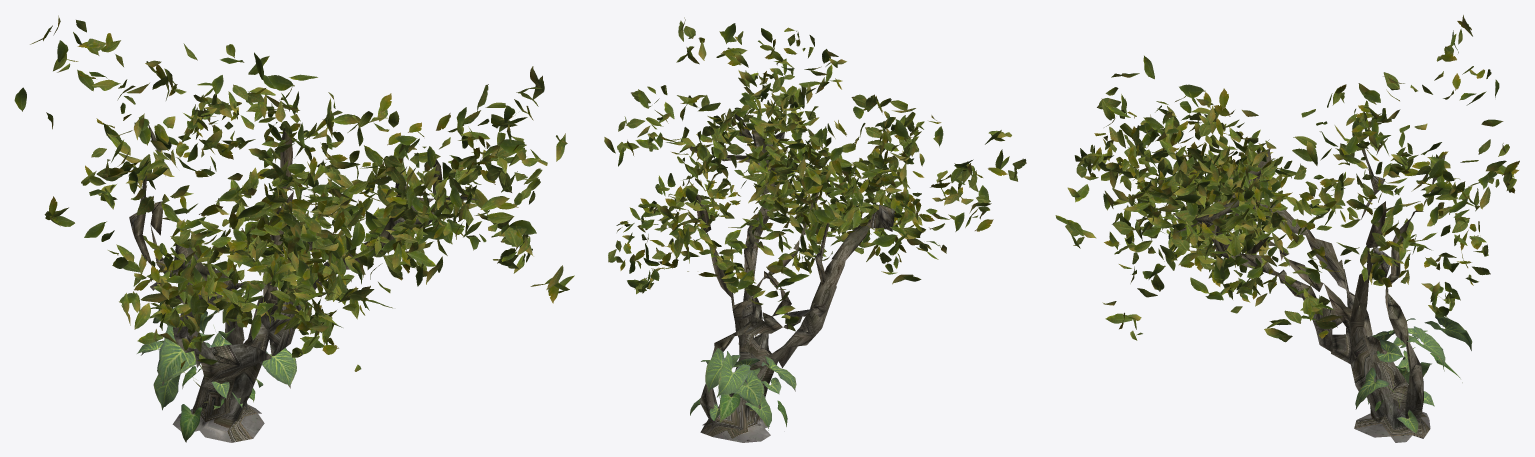
File: greenery.glb
The picture shows the model from 3 angles, left to right: view 1: azimuth 30°, elevation 25°; view 2: azimuth 150°, elevation 25°; view 3: azimuth 270°, elevation 25°; orthographic projection. The views are drawn at different scales.
Parts seen in each view (by area): view 1: tree_leaves, tree_trunk, shrub; view 2: tree_leaves, tree_trunk, shrub; view 3: tree_leaves, tree_trunk, shrub.
Boxes of the visible parts, x1,y1,x2,y2 form: tree_leaves: [14, 15, 574, 371]; tree_trunk: [129, 125, 478, 442]; shrub: [137, 302, 296, 442]; tree_leaves: [604, 17, 1026, 331]; tree_trunk: [689, 114, 894, 442]; shrub: [690, 348, 796, 430]; tree_leaves: [1055, 15, 1519, 342]; tree_trunk: [1173, 143, 1445, 442]; shrub: [1355, 316, 1472, 433].
Size of the model in its own units: 3.76 by 3.46 by 4.06.
3 materials, 3 textured.
